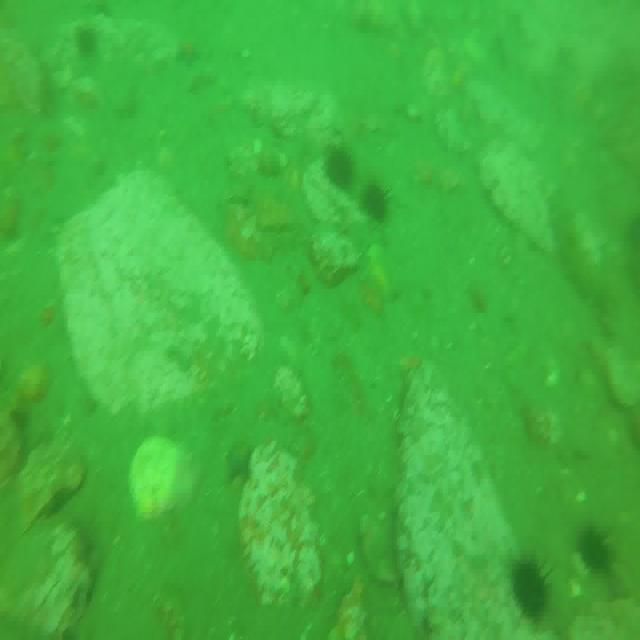echinus: (512, 554, 551, 625), (578, 522, 613, 577), (322, 142, 355, 192), (360, 178, 389, 224), (75, 27, 96, 57)
starfish: (225, 439, 251, 487), (174, 37, 204, 70)
